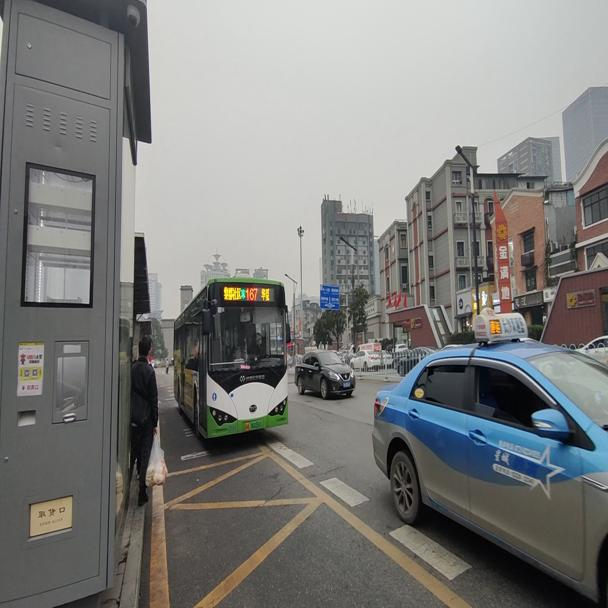bus: (172, 278, 290, 443)
screen: (245, 288, 258, 299)
